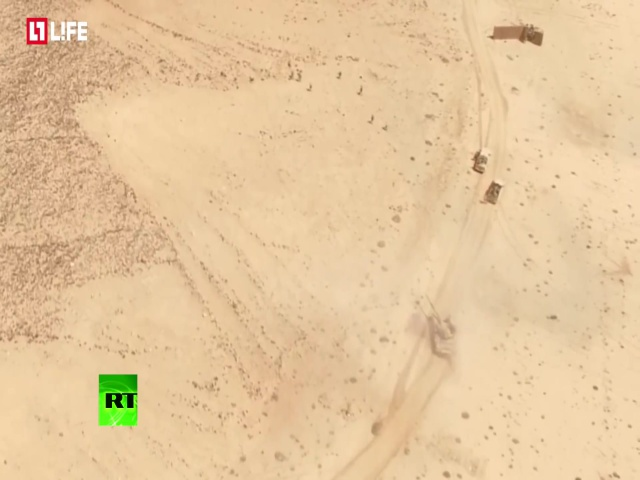vehicle: (427, 305, 460, 364), (480, 177, 505, 207), (470, 145, 492, 175)
